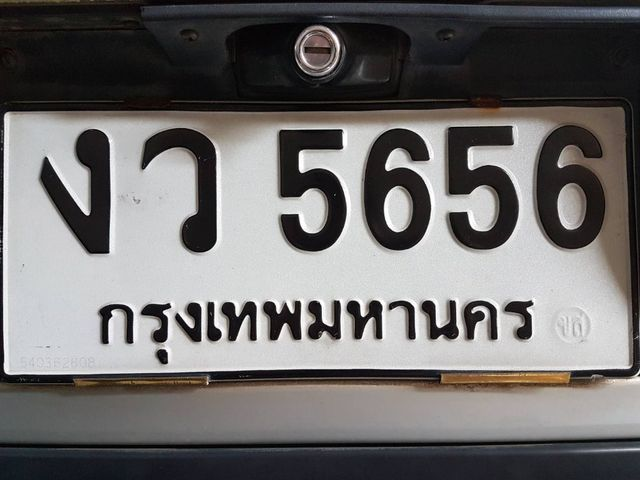Bangkok: (77, 281, 543, 363)
